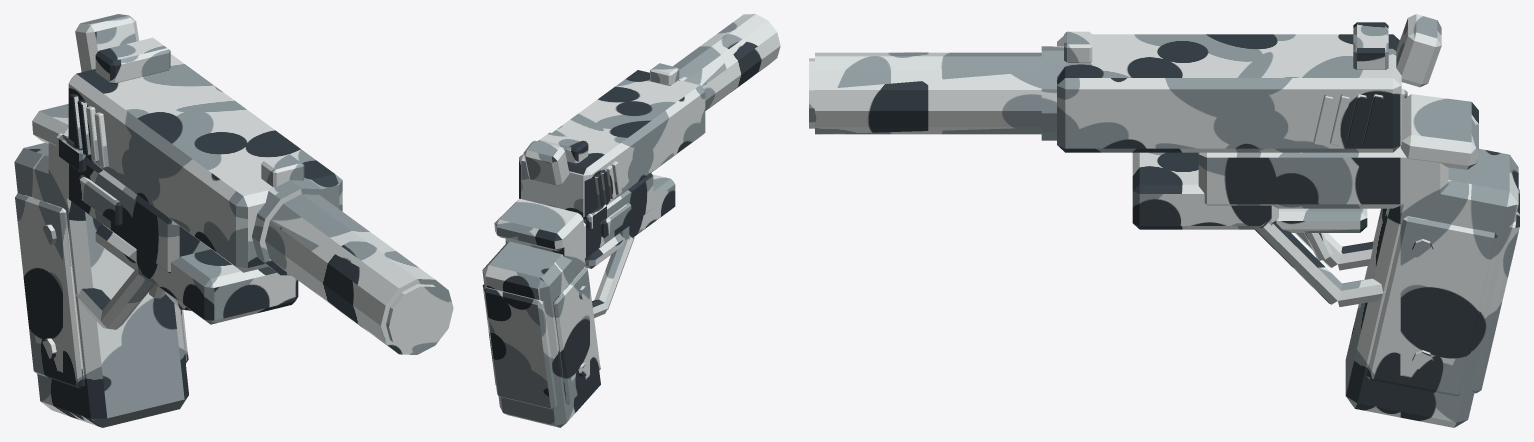
The model's file is SuppressedPistol_SnowCamo.glb.
The picture shows the model from 3 angles, left to right: view 1: azimuth 30°, elevation 25°; view 2: azimuth 150°, elevation 25°; view 3: azimuth 270°, elevation 25°; orthographic projection. The views are drawn at different scales.
Visible parts, largest first — view 1: FTF_Weapon_SuppressedPistol_RuralCamo_Mesh; view 2: FTF_Weapon_SuppressedPistol_RuralCamo_Mesh; view 3: FTF_Weapon_SuppressedPistol_RuralCamo_Mesh.
Part boxes in pixels (x1,y1,x2,y2): FTF_Weapon_SuppressedPistol_RuralCamo_Mesh: (14,14,453,427); FTF_Weapon_SuppressedPistol_RuralCamo_Mesh: (482,14,780,427); FTF_Weapon_SuppressedPistol_RuralCamo_Mesh: (809,14,1519,427).
Size of the model in its own units: 0.284 by 0.903 by 1.51.
Materials: 1 (1 with a texture image).
